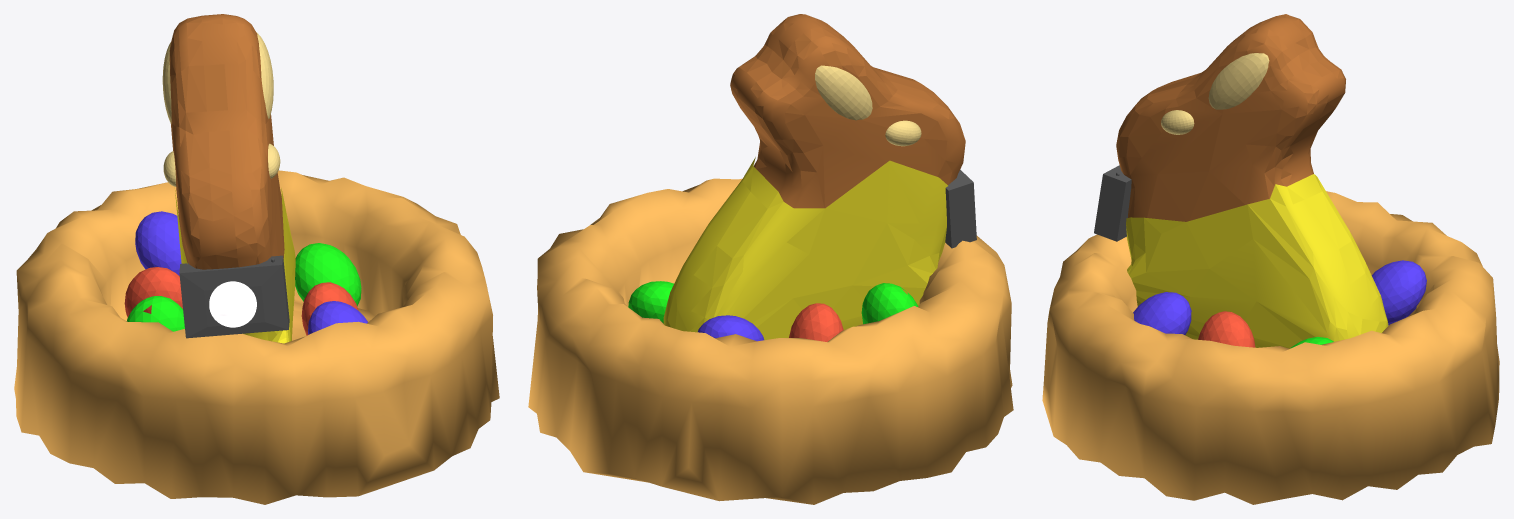
Rendered from spyingEasterBunny.glb.
3 views of the same model, side by side, from view 1: azimuth 30°, elevation 25°; view 2: azimuth 150°, elevation 25°; view 3: azimuth 270°, elevation 25° (orthographic). The views are drawn at different scales.
Visible parts, largest first — view 1: Building_Easter_Bunny; view 2: Building_Easter_Bunny; view 3: Building_Easter_Bunny.
Boxes of the visible parts, box(x1,y1,x2,y2) form: Building_Easter_Bunny: box(14, 14, 499, 504); Building_Easter_Bunny: box(528, 14, 1013, 504); Building_Easter_Bunny: box(1042, 14, 1499, 504).
Bounding box in the file's own units: 0.9458 × 0.8497 × 0.9439.
